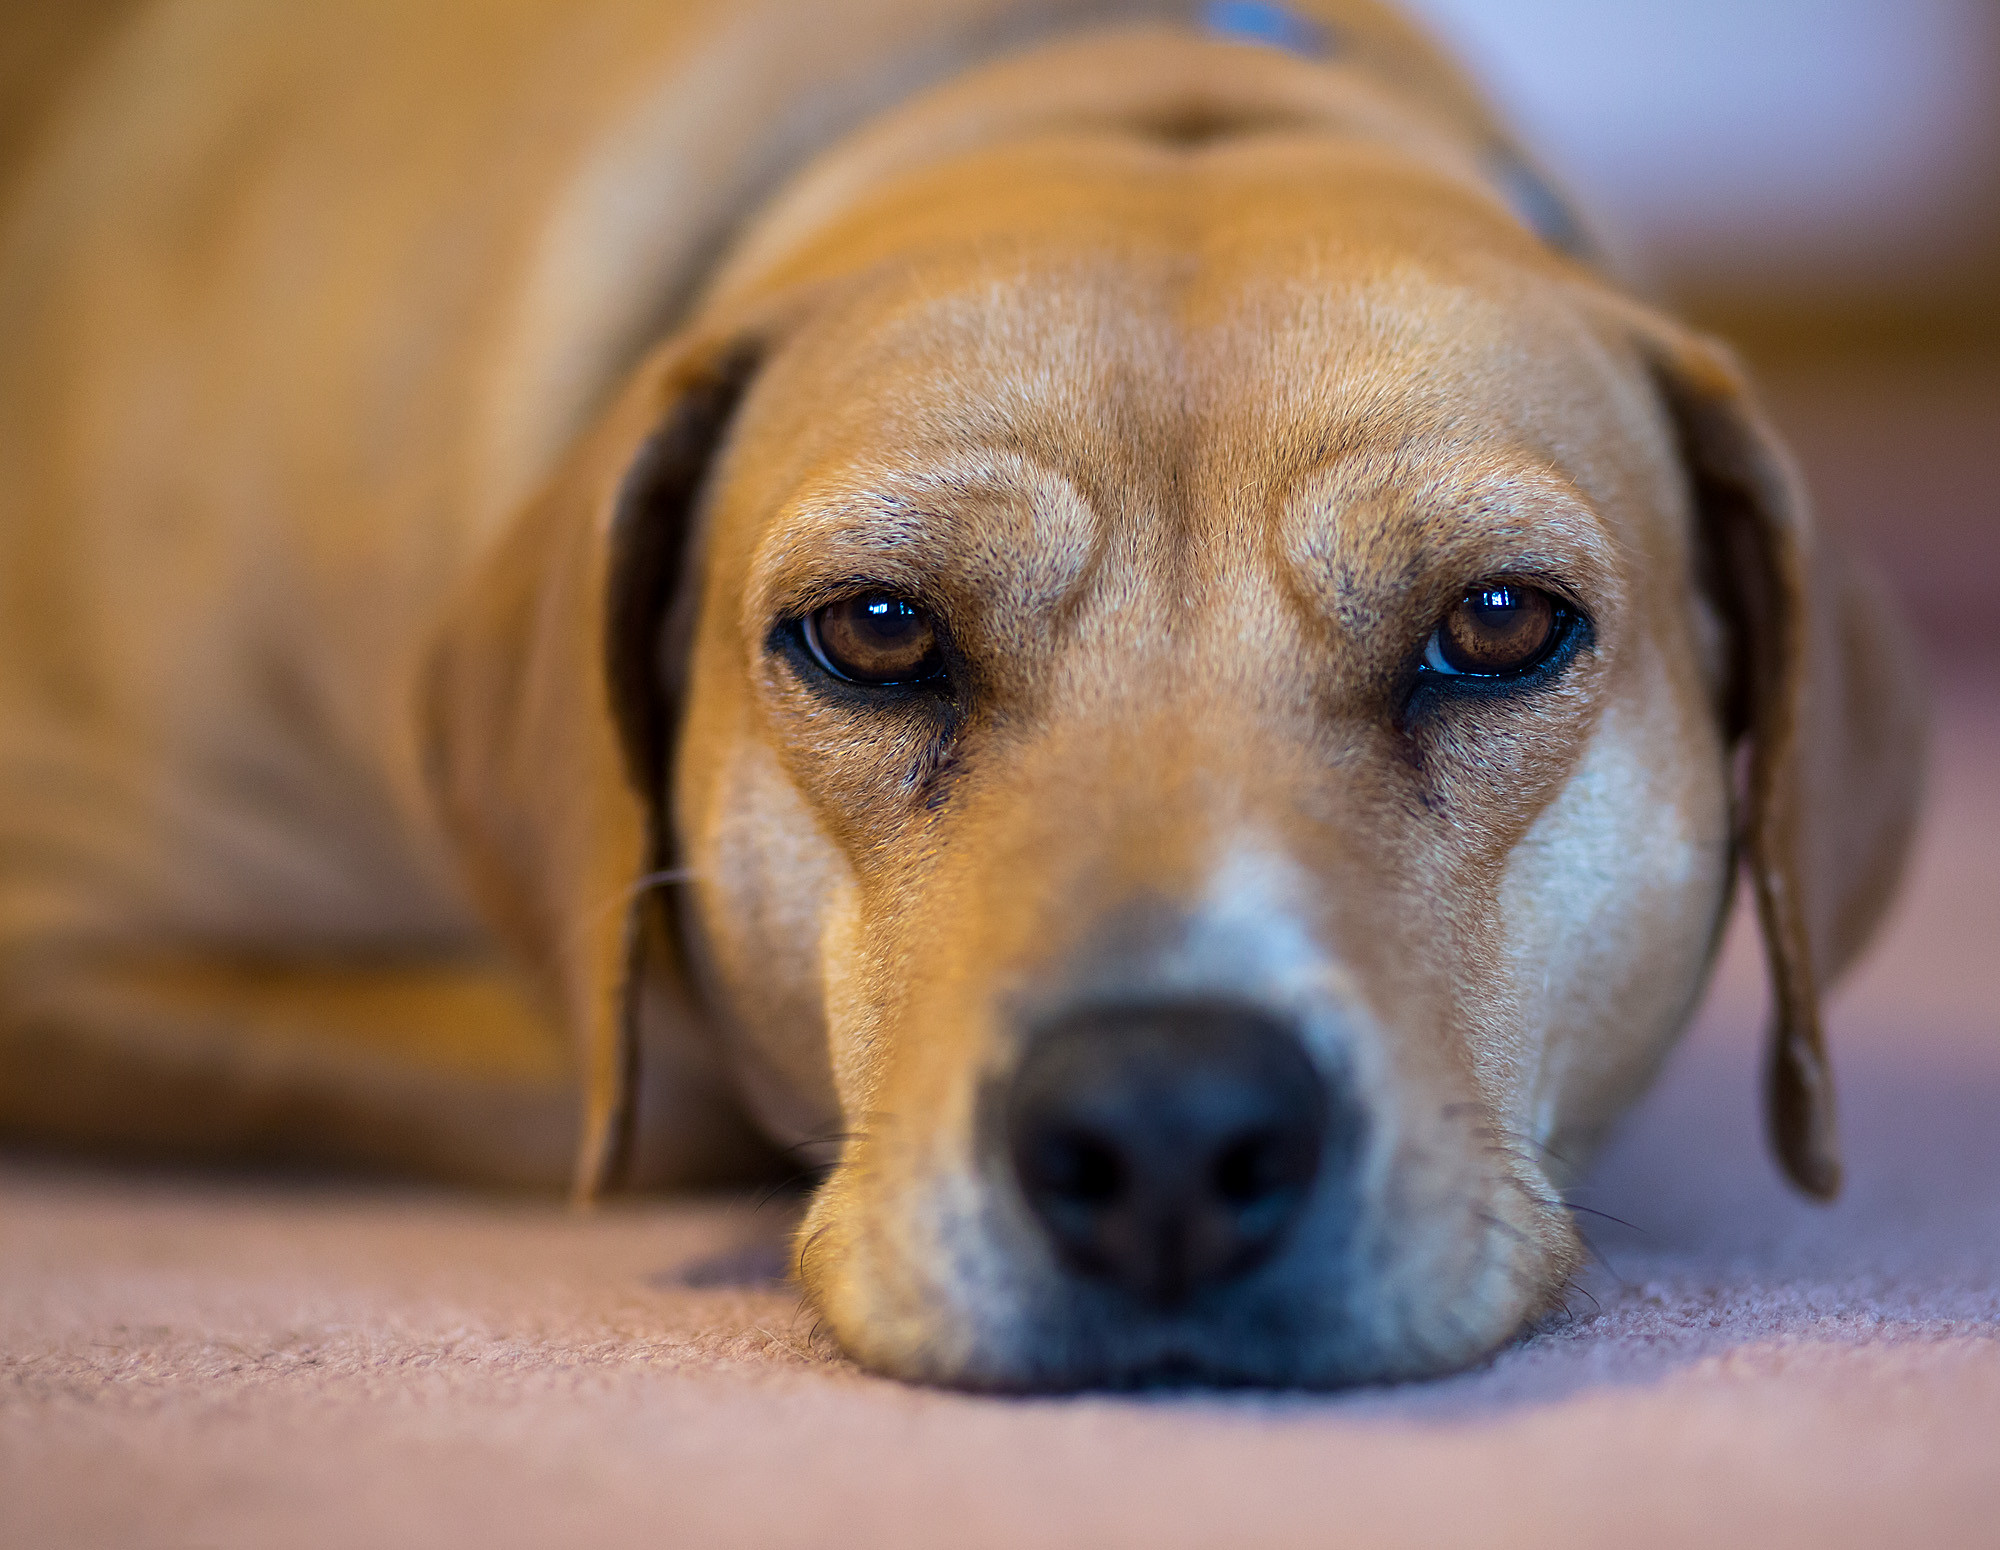dog: (489, 151, 1909, 1380)
